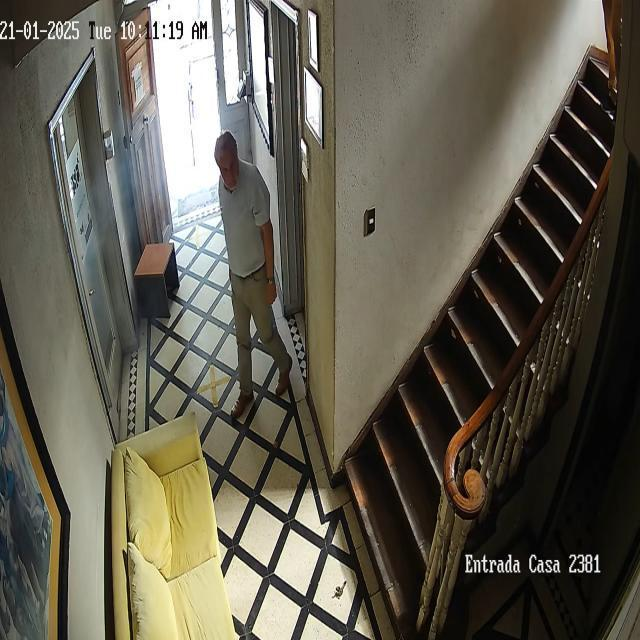fire: (72, 110, 194, 276)
